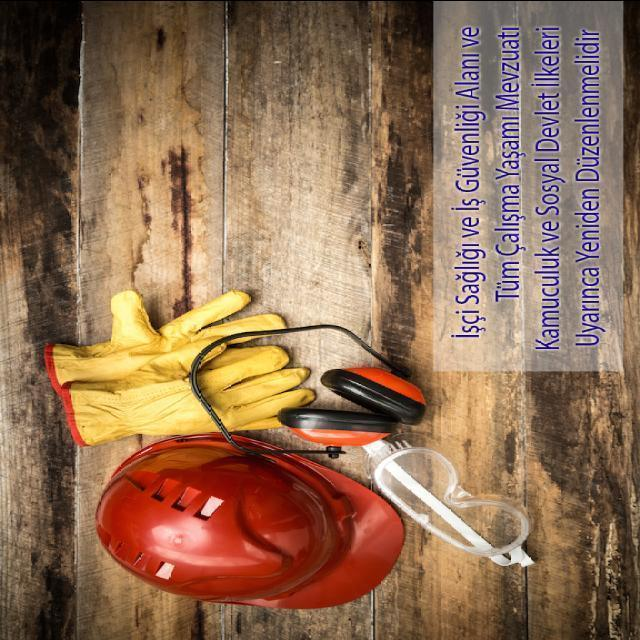helmet: (96, 434, 404, 609)
